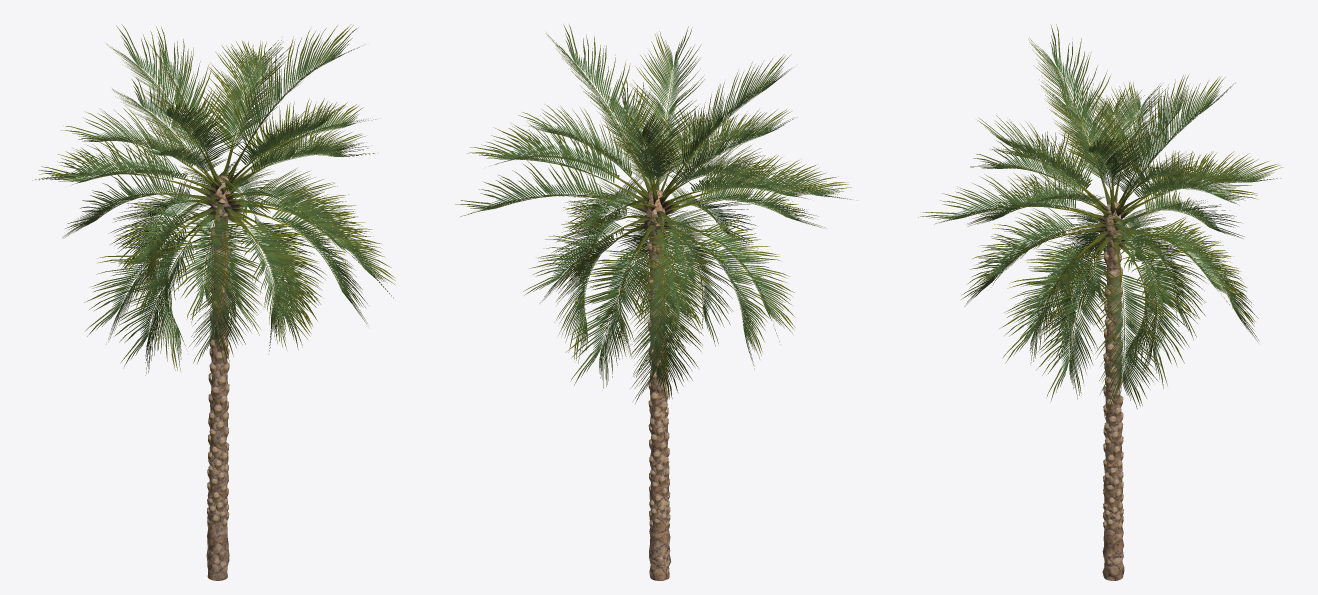
File: palm.glb
The picture shows the model from 3 angles, left to right: view 1: azimuth 30°, elevation 25°; view 2: azimuth 150°, elevation 25°; view 3: azimuth 270°, elevation 25°; orthographic projection. The views are drawn at different scales.
Visible parts, largest first — view 1: body_01, body_00, body_03, body_02; view 2: body_01, body_00, body_03, body_02; view 3: body_01, body_00, body_02, body_03.
Part boxes in pixels (bbox=[...]): body_01: bbox=[32, 24, 395, 375]; body_00: bbox=[206, 175, 230, 580]; body_03: bbox=[155, 125, 293, 264]; body_02: bbox=[207, 228, 230, 528]; body_01: bbox=[455, 24, 851, 403]; body_00: bbox=[647, 190, 671, 580]; body_03: bbox=[583, 140, 723, 289]; body_02: bbox=[647, 241, 670, 530]; body_01: bbox=[918, 24, 1282, 415]; body_00: bbox=[1102, 202, 1124, 580]; body_02: bbox=[1103, 251, 1123, 531]; body_03: bbox=[1049, 156, 1167, 292].
Bounding box in the file's own units: 5.46 × 7.34 × 5.21.
Materials: 4 (4 with a texture image).
